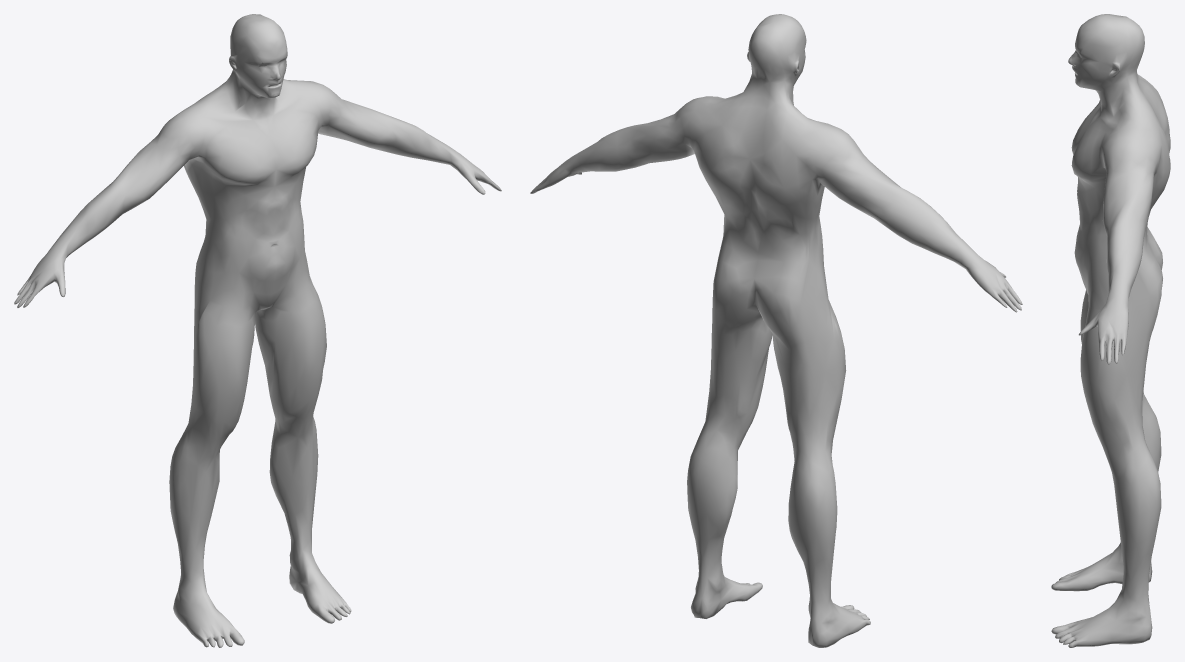
The model's file is low_poly_male_body_base.glb.
3 views of the same model, side by side, from view 1: azimuth 30°, elevation 25°; view 2: azimuth 150°, elevation 25°; view 3: azimuth 270°, elevation 25° (orthographic).
Visible parts, largest first — view 1: node_id81; view 2: node_id81; view 3: node_id81.
Boxes of the visible parts, x1,y1,x2,y2 form: node_id81: [14, 14, 501, 647]; node_id81: [530, 14, 1022, 647]; node_id81: [1051, 14, 1170, 647].
Size of the model in its own units: 0.1417 by 0.167 by 0.0303.
Materials: 1 (1 with a texture image).
